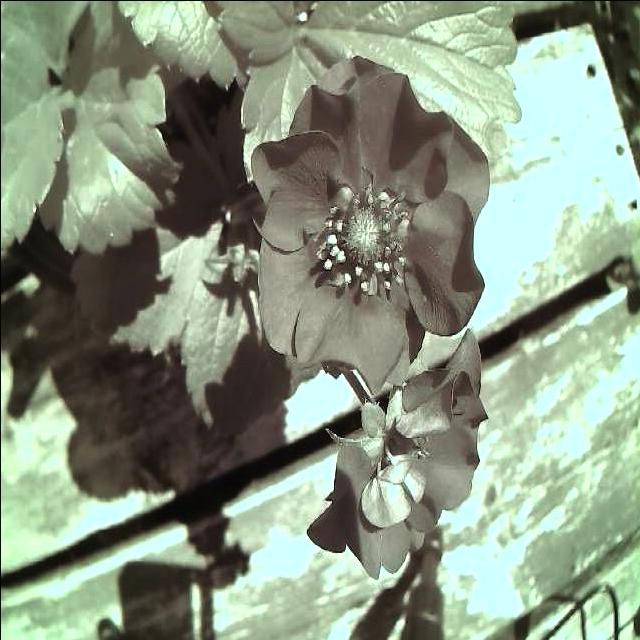flower: (217, 40, 518, 398), (298, 328, 498, 585)
